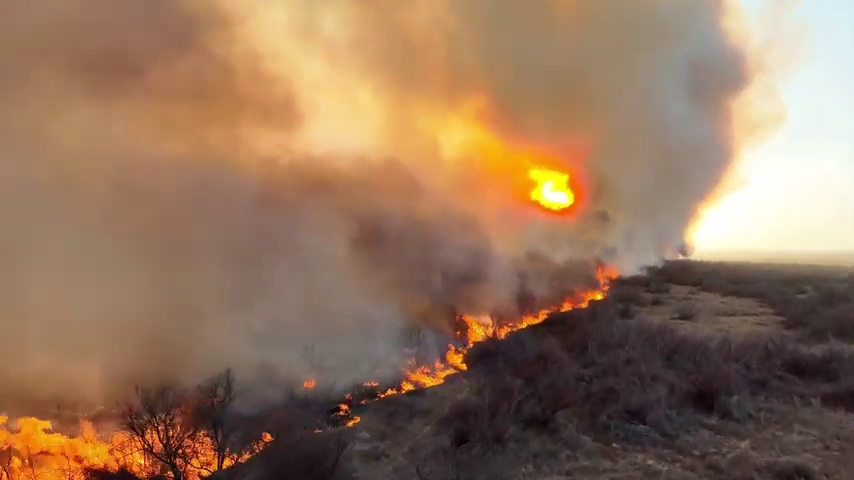forest_fire: (377, 267, 612, 397), (0, 415, 154, 479), (178, 432, 271, 479)
